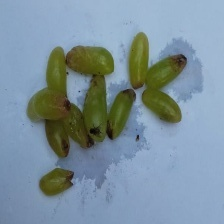grapes: (28, 22, 196, 216)
